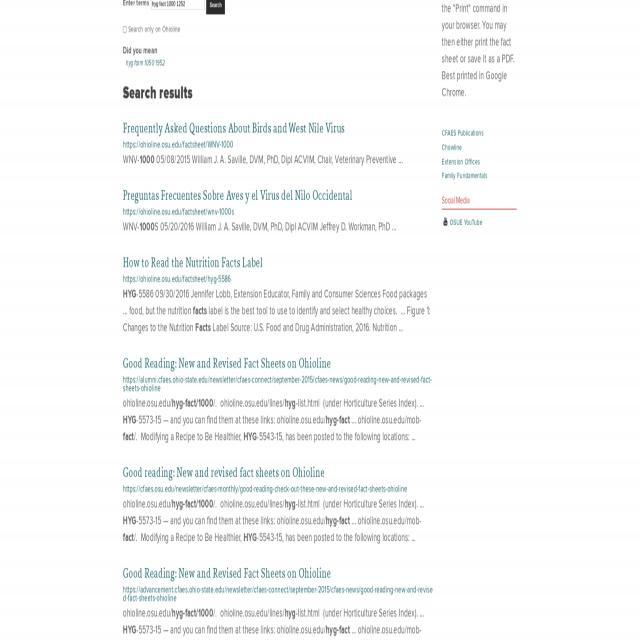button: (206, 0, 224, 14)
field: (151, 0, 205, 10)
